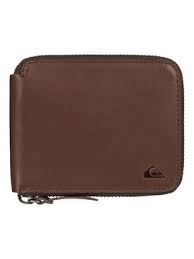monedero: (9, 54, 184, 203)
